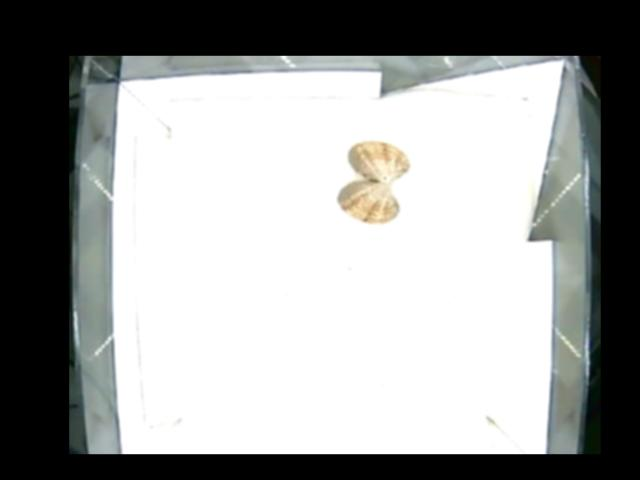Shell: (337, 141, 408, 224)
